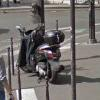Motorcycle: (10, 16, 70, 94)
